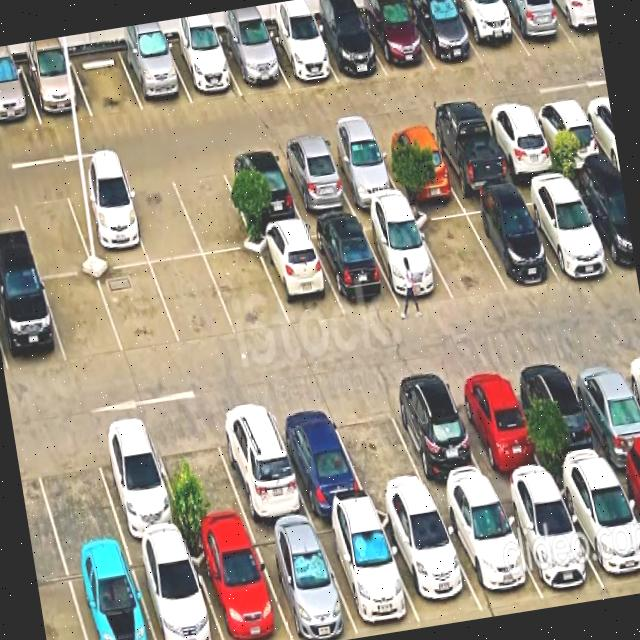empty: (150, 416, 251, 538), (327, 388, 432, 505), (30, 430, 125, 557), (411, 203, 507, 300), (169, 158, 255, 255), (120, 169, 203, 263), (11, 183, 93, 278), (151, 256, 237, 345), (97, 264, 181, 355), (42, 273, 124, 364), (205, 249, 290, 335), (70, 48, 143, 117)
occupied: (313, 510, 422, 638), (383, 376, 493, 499), (495, 481, 605, 600), (249, 521, 359, 640), (436, 490, 544, 611), (376, 502, 483, 622), (445, 366, 550, 488), (210, 401, 311, 527), (89, 422, 187, 546), (269, 397, 369, 517), (514, 356, 612, 477), (188, 530, 291, 640), (554, 468, 640, 595), (516, 179, 614, 279), (128, 539, 223, 640), (461, 194, 558, 290), (255, 226, 345, 328), (307, 217, 399, 316), (564, 349, 640, 467), (359, 210, 454, 304), (64, 548, 155, 640), (63, 176, 149, 271), (568, 172, 637, 275), (426, 116, 512, 196), (220, 150, 303, 231), (0, 276, 66, 374), (274, 142, 355, 220), (374, 125, 458, 199), (322, 135, 404, 210), (481, 106, 561, 181), (359, 3, 435, 78), (530, 98, 608, 171), (448, 0, 531, 66), (405, 0, 483, 70), (311, 14, 387, 83), (119, 42, 192, 111), (166, 38, 242, 104), (20, 56, 92, 125), (263, 24, 338, 88), (219, 31, 289, 96), (497, 0, 577, 56), (0, 63, 41, 131), (548, 0, 601, 48)
